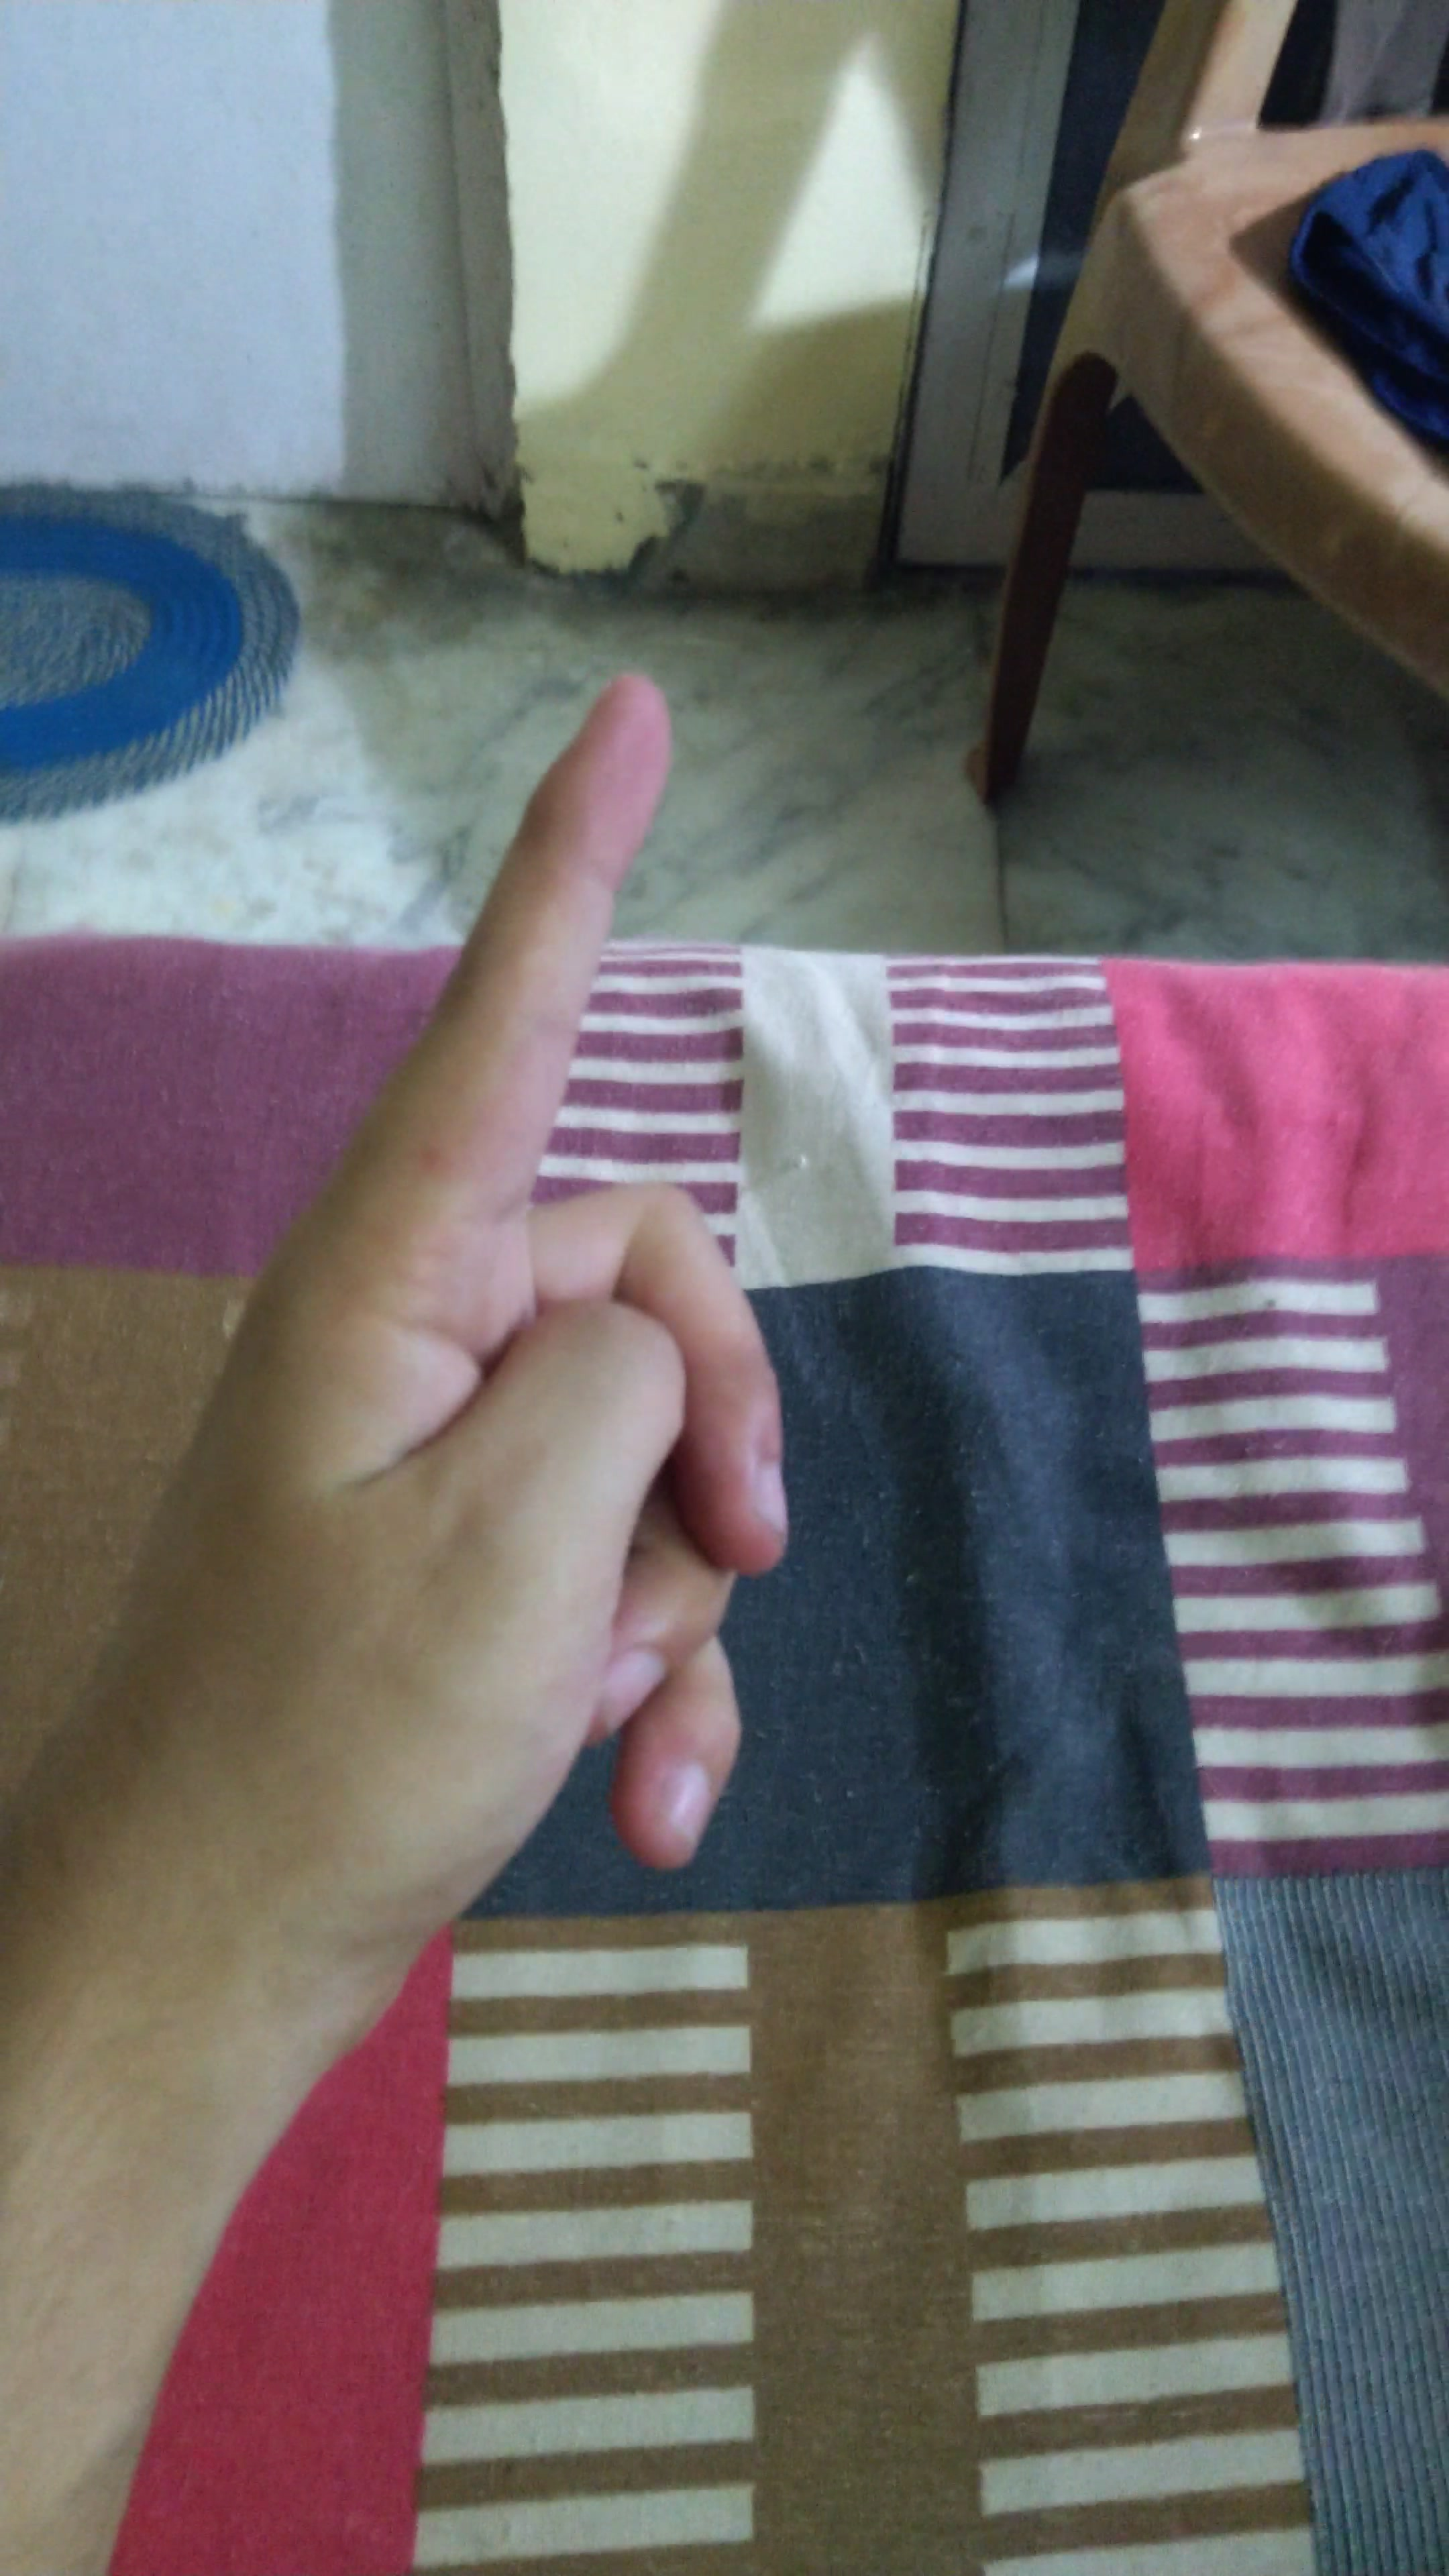hand: (150, 609, 846, 1928)
